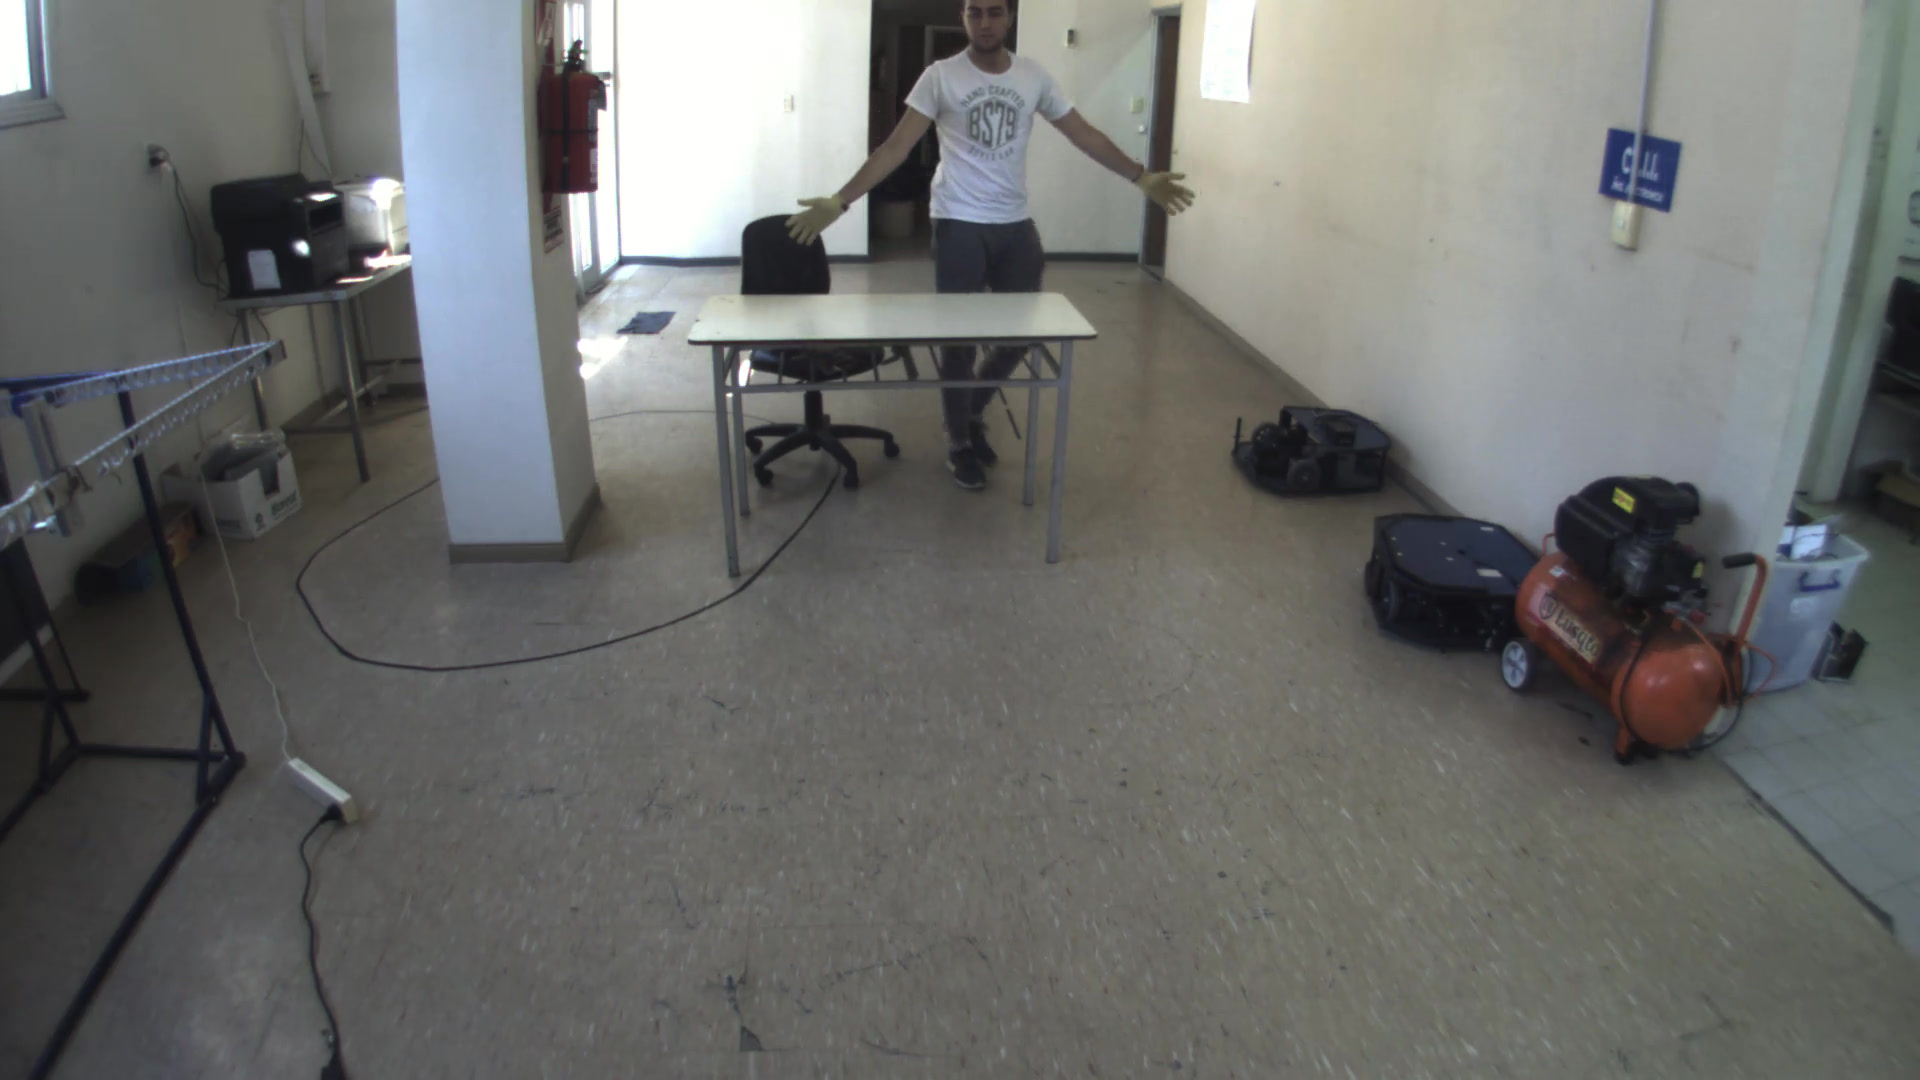hand: (1127, 157, 1204, 219), (778, 189, 848, 245)
